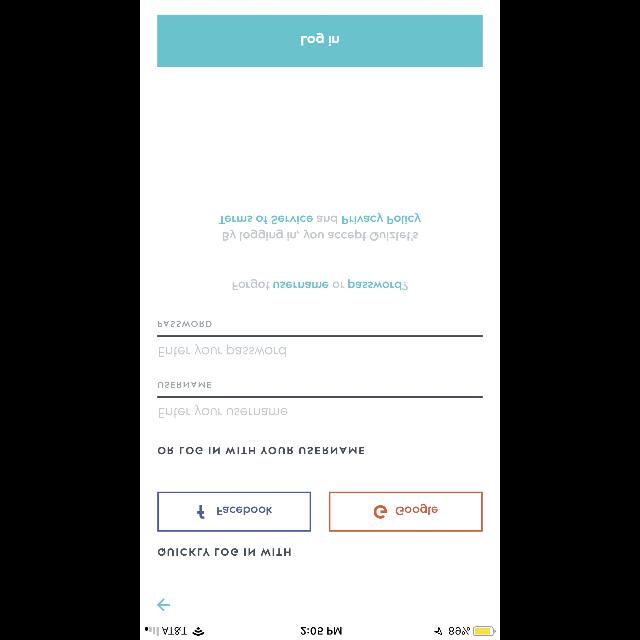icon: (157, 598, 170, 612)
input: (158, 335, 482, 357), (158, 396, 482, 418)
text: (219, 213, 421, 241), (159, 404, 287, 418), (159, 344, 285, 358), (232, 280, 408, 290), (158, 446, 364, 454), (157, 548, 290, 556), (158, 321, 212, 327), (158, 382, 212, 388)
textbutton: (158, 15, 482, 67), (157, 491, 311, 531), (329, 491, 483, 531)
uppertaskbar: (140, 626, 500, 640)
